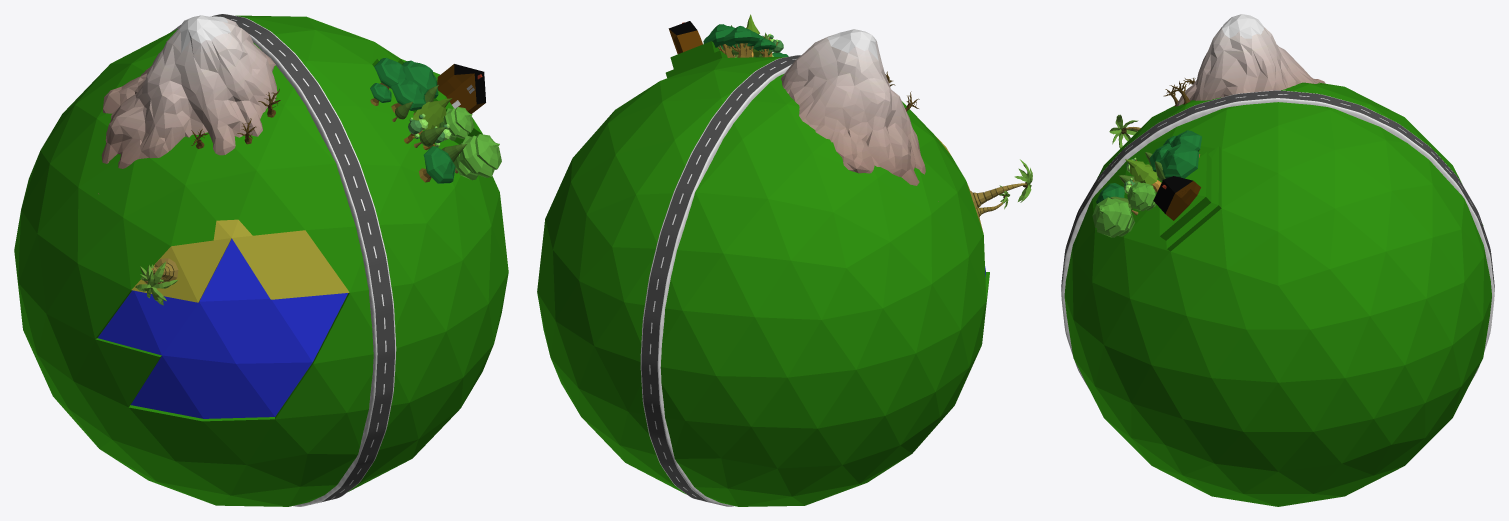
The model's file is terrain_small-transformed.glb.
3 renders of one model, left to right at view 1: azimuth 30°, elevation 25°; view 2: azimuth 150°, elevation 25°; view 3: azimuth 270°, elevation 25°, orthographic. The views are drawn at different scales.
Visible parts, largest first — view 1: Icosphere, mountain-poly, road-poly, forest-house, tree-tornado.002, tree-palm.002, tree-big.009, tree-tornado.001, tree-big.007, tree-big.006, tree-big.005, tree-fir.001; view 2: Icosphere, mountain-poly, road-poly, tree-palm.002, forest-house, tree-big.005; view 3: Icosphere, road-poly, mountain-poly, forest-house, tree-tornado.002, tree-big.006, tree-tornado.001, tree-fir.001.
Part boxes in pixels (x1,y1,x2,y2): Icosphere: (14, 15, 508, 506); mountain-poly: (98, 15, 277, 193); road-poly: (170, 14, 396, 506); forest-house: (437, 64, 485, 113); tree-tornado.002: (453, 134, 501, 180); tree-palm.002: (135, 258, 178, 305); tree-big.009: (419, 146, 455, 183); tree-tornado.001: (439, 107, 473, 140); tree-big.007: (390, 79, 425, 112); tree-big.006: (402, 60, 438, 98); tree-big.005: (374, 57, 405, 89); tree-fir.001: (412, 98, 451, 134); Icosphere: (537, 41, 989, 506); mountain-poly: (781, 29, 938, 201); road-poly: (640, 55, 800, 506); tree-palm.002: (969, 159, 1032, 208); forest-house: (668, 21, 702, 53); tree-big.005: (723, 26, 759, 57); Icosphere: (1064, 82, 1491, 506); road-poly: (1061, 90, 1494, 389); mountain-poly: (1176, 14, 1325, 106); forest-house: (1153, 176, 1200, 220); tree-tornado.002: (1092, 197, 1134, 237); tree-big.006: (1159, 143, 1199, 178); tree-tornado.001: (1127, 182, 1156, 211); tree-fir.001: (1125, 159, 1161, 192).
Bounding box in the file's own units: 32.22 × 36.05 × 32.38.
25 materials, 1 textured.
